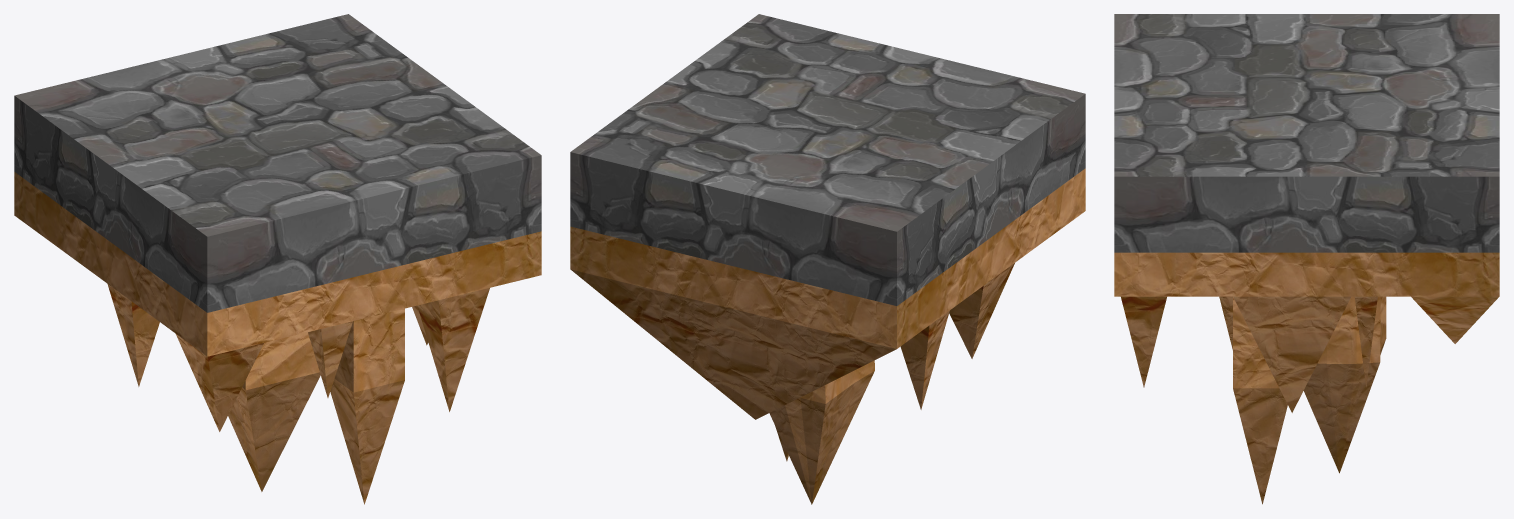
Rendered from movablefloor.FBX.
3 renders of one model, left to right at view 1: azimuth 30°, elevation 25°; view 2: azimuth 150°, elevation 25°; view 3: azimuth 270°, elevation 25°, orthographic. The views are drawn at different scales.
Parts seen in each view (by area): view 1: Box001; view 2: Box001; view 3: Box001.
Part boxes in pixels (bbox=[...]): Box001: bbox=[14, 14, 541, 504]; Box001: bbox=[570, 14, 1085, 504]; Box001: bbox=[1114, 14, 1499, 504].
Size of the model in its own units: 1 by 1.08 by 1.
Materials: 2 (2 with a texture image).
